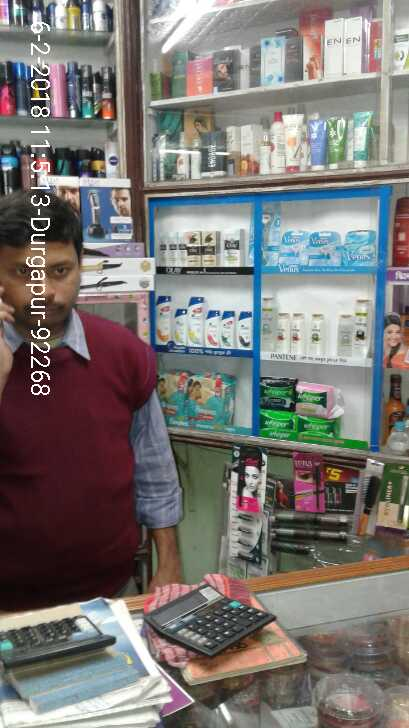venus: (261, 202, 281, 266), (342, 228, 377, 264), (309, 231, 342, 264), (281, 231, 309, 266)
